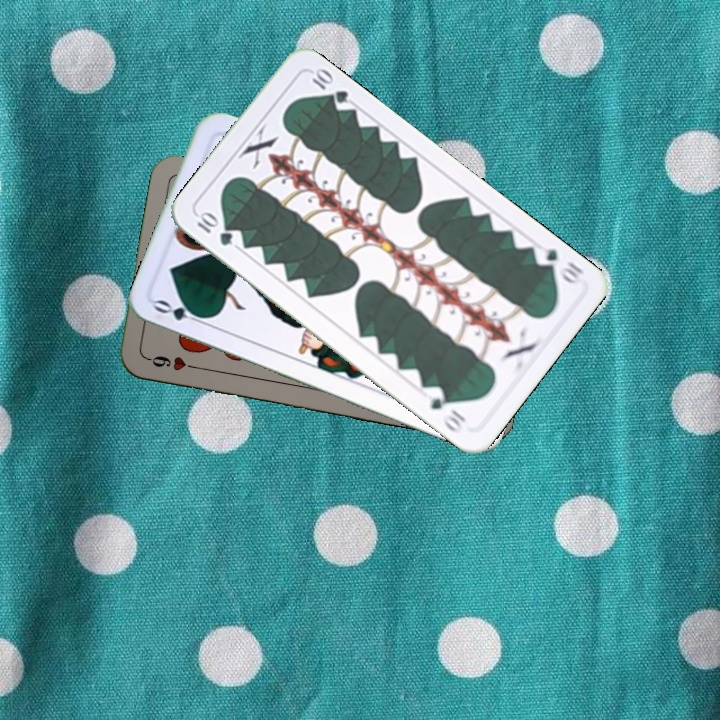G10: (530, 241, 587, 287), (191, 208, 236, 249)
GO: (150, 295, 210, 327)
H9: (143, 351, 202, 374)
